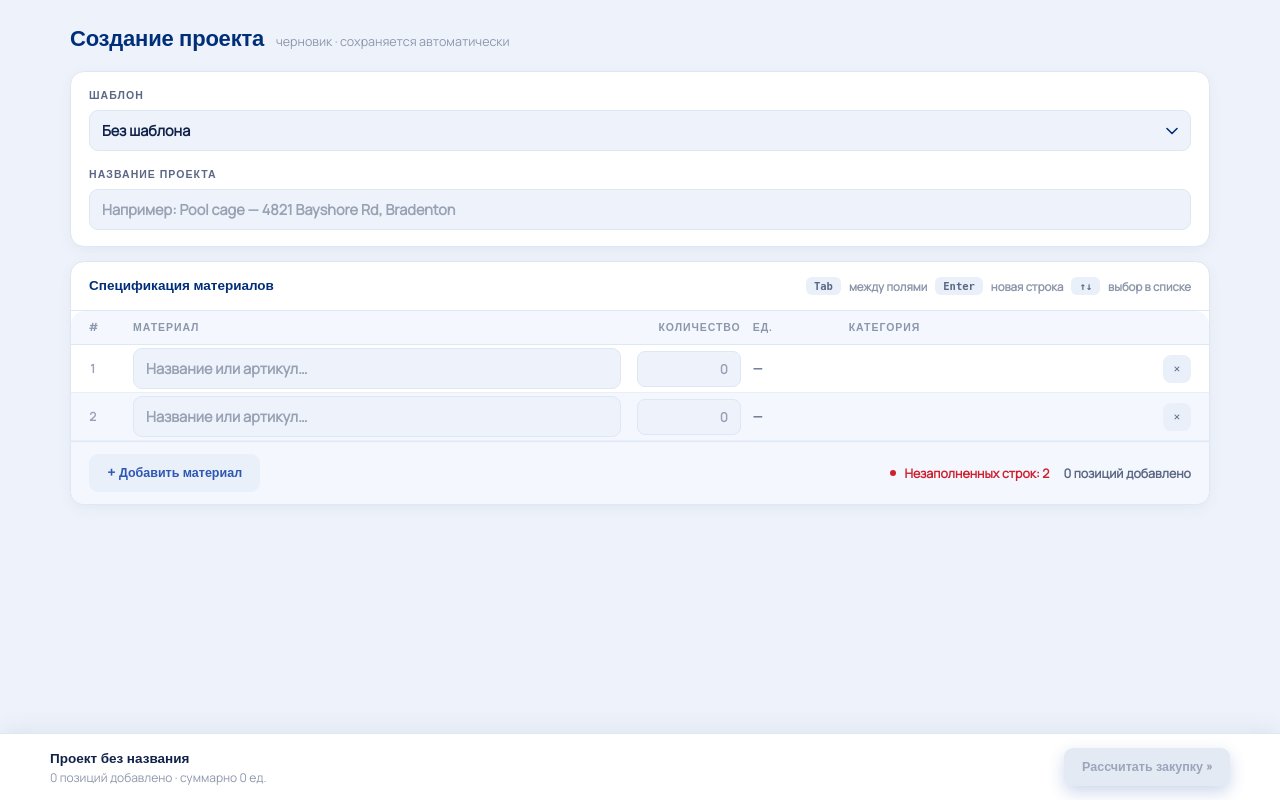
Test case: ProjectBuilderPage › project templates (ADR-0032 §3) › the template selector disappears once the project is created
expect the dropdown labelled "Шаблон" is shown: met, box [89,110,1191,151]
Step 1. Type "Pool cage" into the field labelled "Название проекта" → point(640, 210), box [89,189,1191,230]
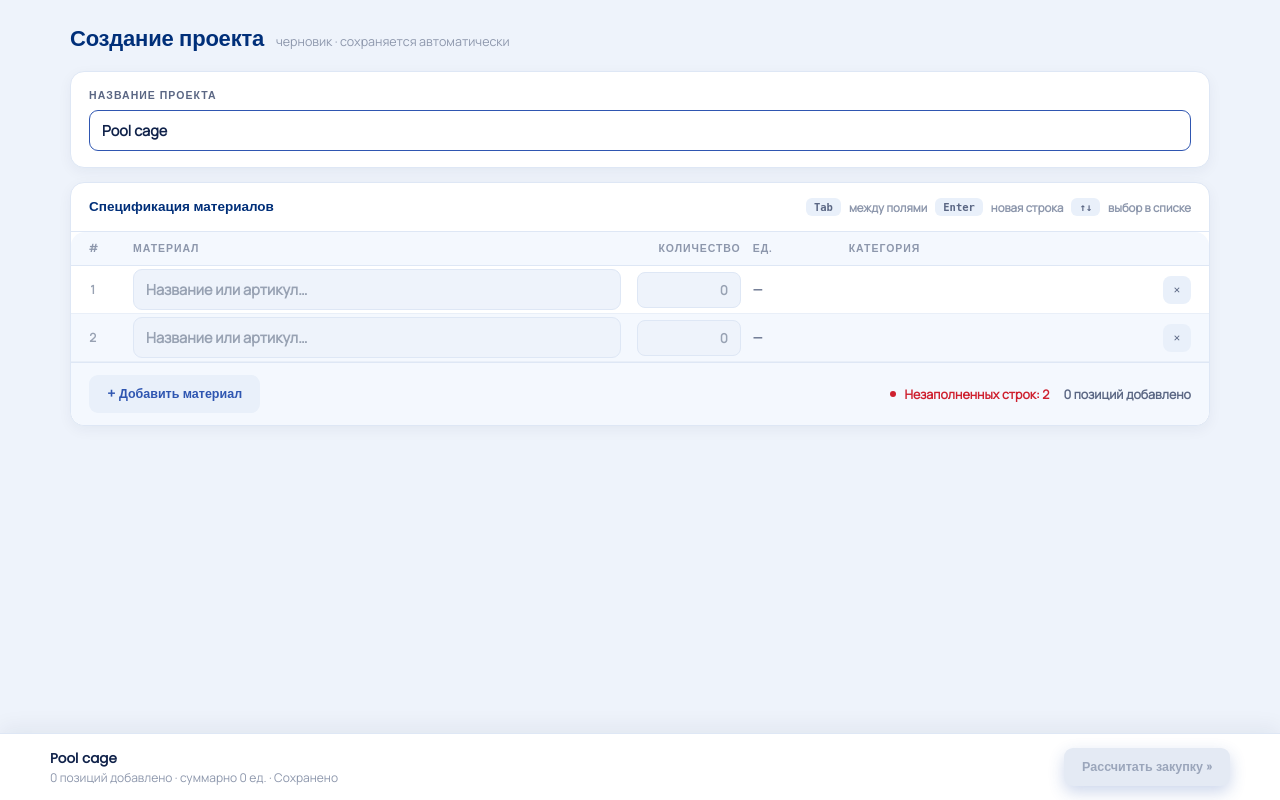
expect the label labelled "Шаблон" is gone: met
